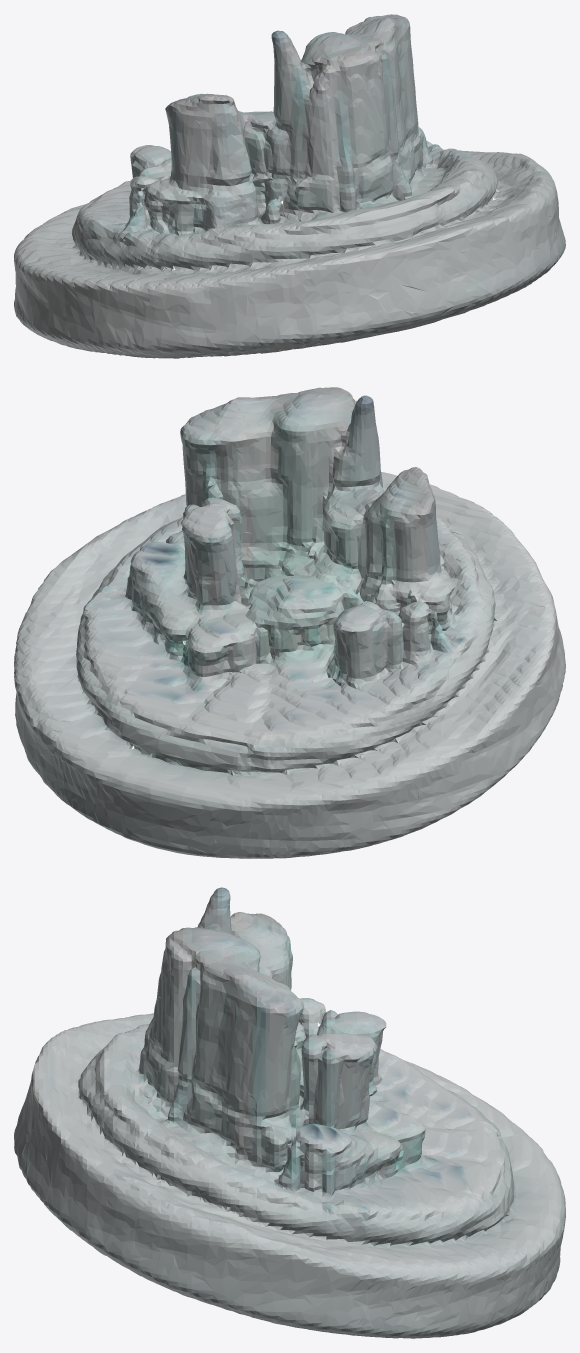
The model's file is room-05-city-model.glb.
The picture shows the model from 3 angles, top to bottom: view 1: azimuth 30°, elevation 25°; view 2: azimuth 150°, elevation 25°; view 3: azimuth 270°, elevation 25°; orthographic projection. The views are drawn at different scales.
Parts seen in each view (by area): view 1: world; view 2: world; view 3: world.
Part boxes in pixels (x1,y1,x2,y2): world: (14, 14, 565, 358); world: (14, 387, 565, 858); world: (14, 887, 565, 1338).
Size of the model in its own units: 0.8968 by 0.6243 by 0.8648.
